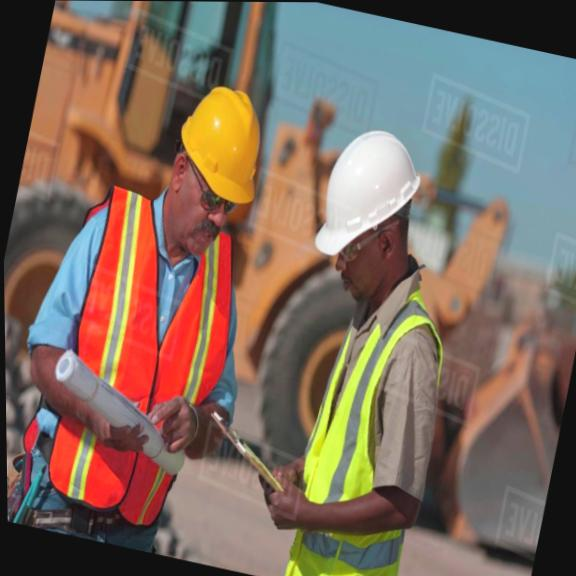safety_vest: (41, 186, 249, 498), (252, 273, 465, 576)
